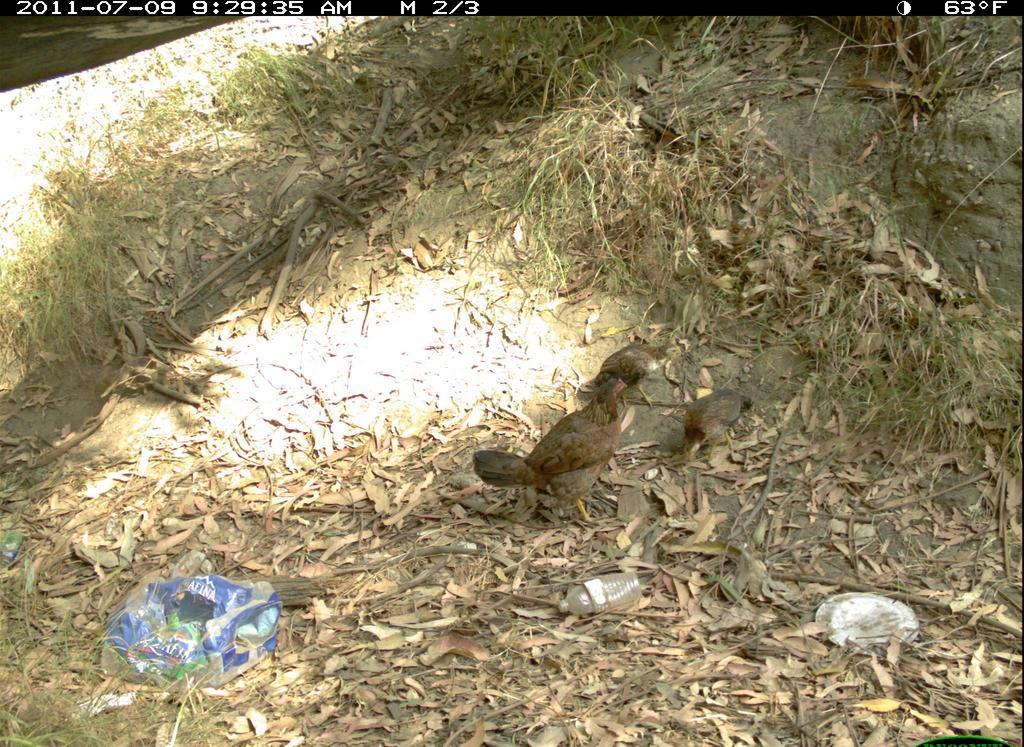bird: (474, 373, 632, 528), (674, 386, 762, 469), (591, 336, 681, 402)
